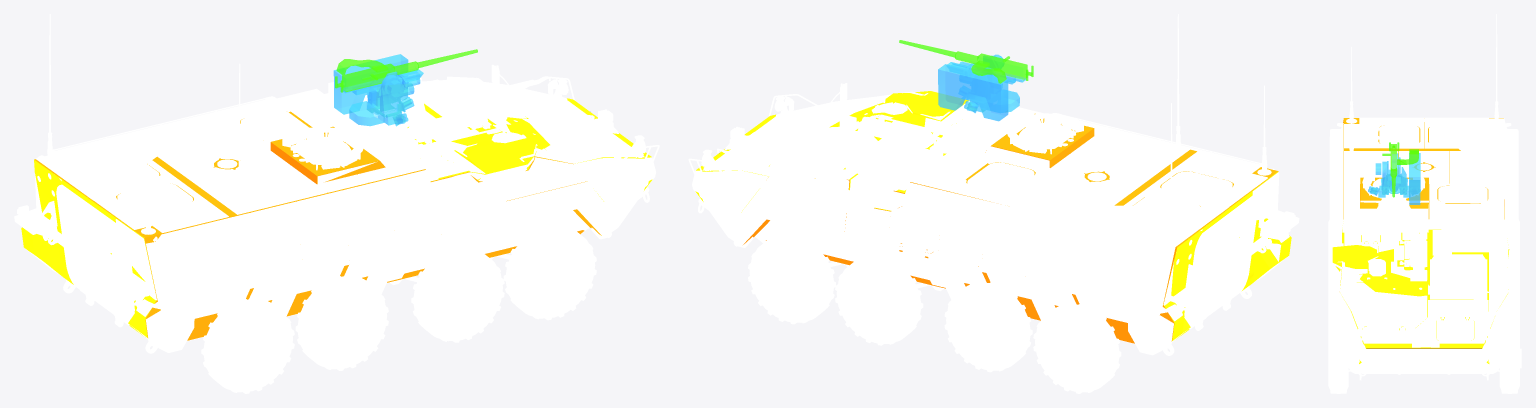
3 views of the same model, side by side, from view 1: azimuth 30°, elevation 25°; view 2: azimuth 150°, elevation 25°; view 3: azimuth 270°, elevation 25° (orthographic). The views are drawn at different scales.
Visible parts, largest first — view 1: 21, 21_1, stryker_col_arm_2, stryker_col_arm_1, CROWS_Stryker_Turret_COL_107, crows_m2_col_1, stryker_col_arm, crows_m2_col; view 2: 21, 21_1, stryker_col_arm_1, stryker_col_arm_2, CROWS_Stryker_Turret_COL_107, crows_m2_col_1, stryker_col_arm, crows_m2_col; view 3: 21, stryker_col_arm, 21_1, stryker_col_arm_2, CROWS_Stryker_Turret_COL_107, stryker_col_arm_1, crows_m2_col_1, crows_m2_col, 21_2.001.
Boxes of the visible parts, x1=… form: 21: x1=14, y1=14, x2=659, y2=353; 21_1: x1=201, y1=223, x2=596, y2=393; stryker_col_arm_2: x1=34, y1=111, x2=601, y2=340; stryker_col_arm_1: x1=21, y1=138, x2=535, y2=337; CROWS_Stryker_Turret_COL_107: x1=333, y1=54, x2=414, y2=126; crows_m2_col_1: x1=335, y1=49, x2=477, y2=92; stryker_col_arm: x1=407, y1=98, x2=652, y2=235; crows_m2_col: x1=342, y1=69, x2=423, y2=106; 21: x1=688, y1=14, x2=1299, y2=355; 21_1: x1=748, y1=233, x2=1121, y2=393; stryker_col_arm_1: x1=885, y1=91, x2=1291, y2=340; stryker_col_arm_2: x1=743, y1=113, x2=1278, y2=343; CROWS_Stryker_Turret_COL_107: x1=938, y1=55, x2=1019, y2=121; crows_m2_col_1: x1=899, y1=40, x2=1033, y2=83; stryker_col_arm: x1=695, y1=102, x2=956, y2=212; crows_m2_col: x1=947, y1=54, x2=1025, y2=93; 21: x1=1329, y1=14, x2=1519, y2=380; stryker_col_arm: x1=1340, y1=229, x2=1509, y2=363; 21_1: x1=1328, y1=219, x2=1521, y2=393; stryker_col_arm_2: x1=1343, y1=118, x2=1504, y2=218; CROWS_Stryker_Turret_COL_107: x1=1368, y1=153, x2=1420, y2=204; stryker_col_arm_1: x1=1332, y1=244, x2=1378, y2=272; crows_m2_col_1: x1=1382, y1=142, x2=1418, y2=197; crows_m2_col: x1=1375, y1=153, x2=1402, y2=191; 21_2.001: x1=1384, y1=189, x2=1402, y2=205.
Bounding box in the file's own units: 7.05 × 3.94 × 2.93.
